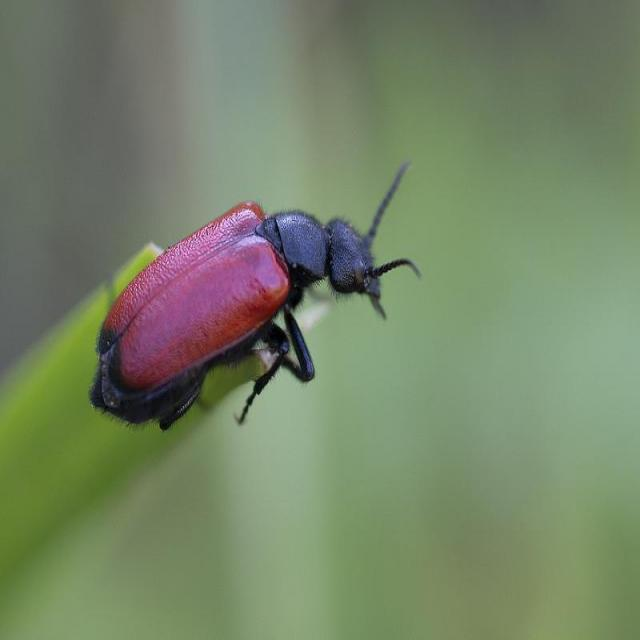BlisterBeetle-Adult-: (82, 143, 424, 435)
